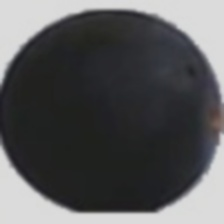grapes: (0, 10, 195, 177)
